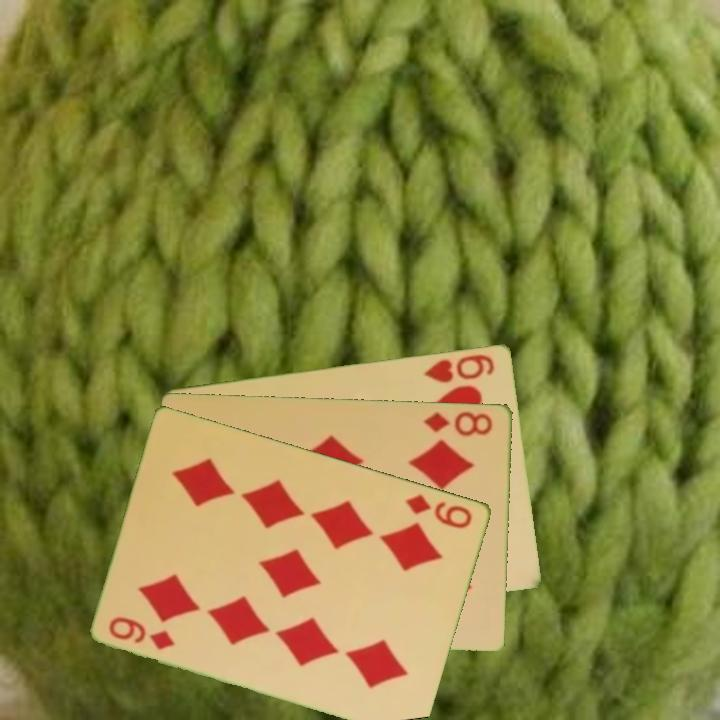6h: (421, 350, 498, 385)
8d: (421, 407, 496, 439)
9d: (402, 490, 476, 532), (105, 613, 178, 653)
